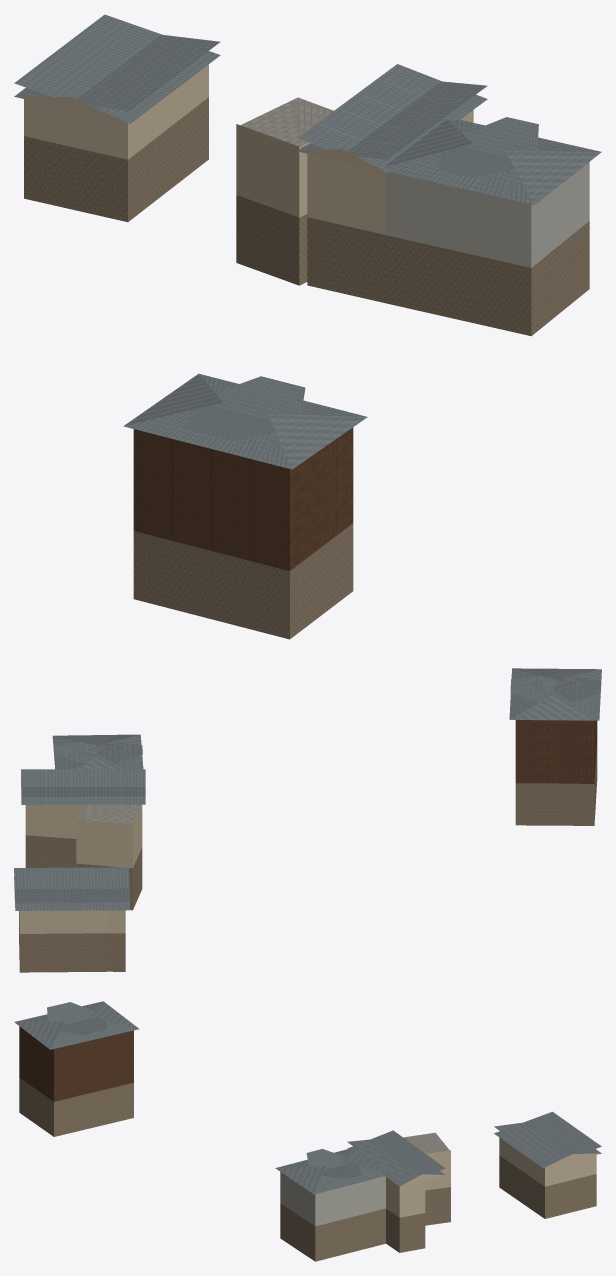
The model's file is bld_c43_47_186.gltf.
The picture shows the model from 3 angles, top to bottom: view 1: azimuth 30°, elevation 25°; view 2: azimuth 150°, elevation 25°; view 3: azimuth 270°, elevation 25°; orthographic projection. The views are drawn at different scales.
Parts seen in each view (by area): view 1: bld_c43_47_186; view 2: bld_c43_47_186; view 3: bld_c43_47_186.
Part boxes in pixels (x1=…): bld_c43_47_186: x1=14, y1=14, x2=601, y2=639; bld_c43_47_186: x1=14, y1=668, x2=601, y2=972; bld_c43_47_186: x1=14, y1=1001, x2=601, y2=1261.
Bounding box in the file's own units: 53.35 × 14.3 × 77.09.
Materials: 7 (7 with a texture image).
